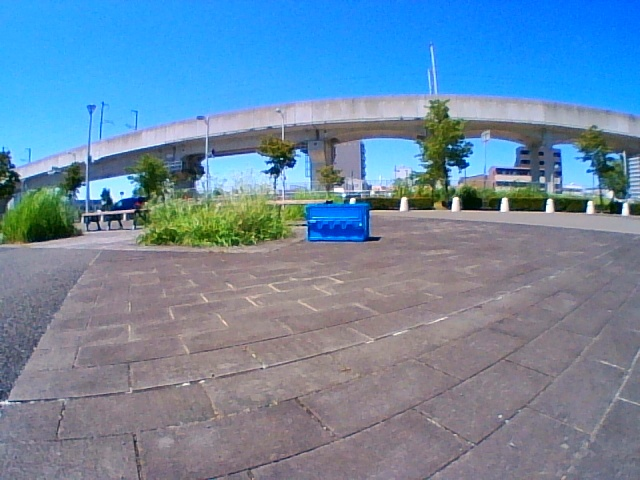blue_box: (308, 205, 369, 240)
